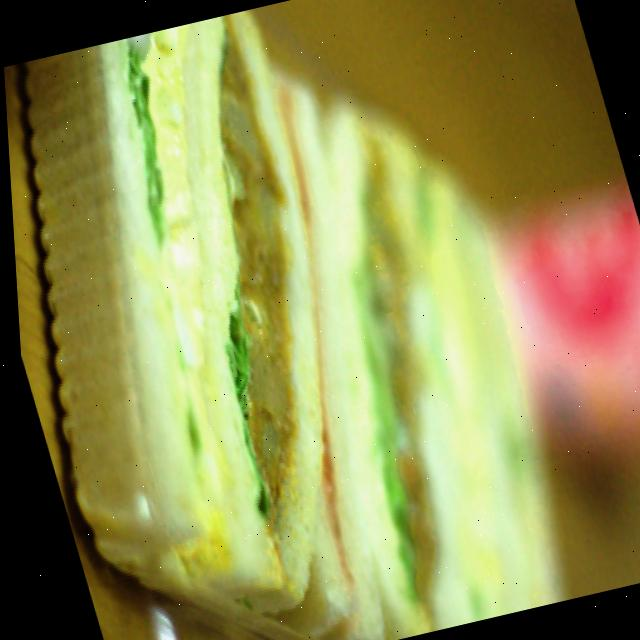三明治: (0, 2, 445, 640)
